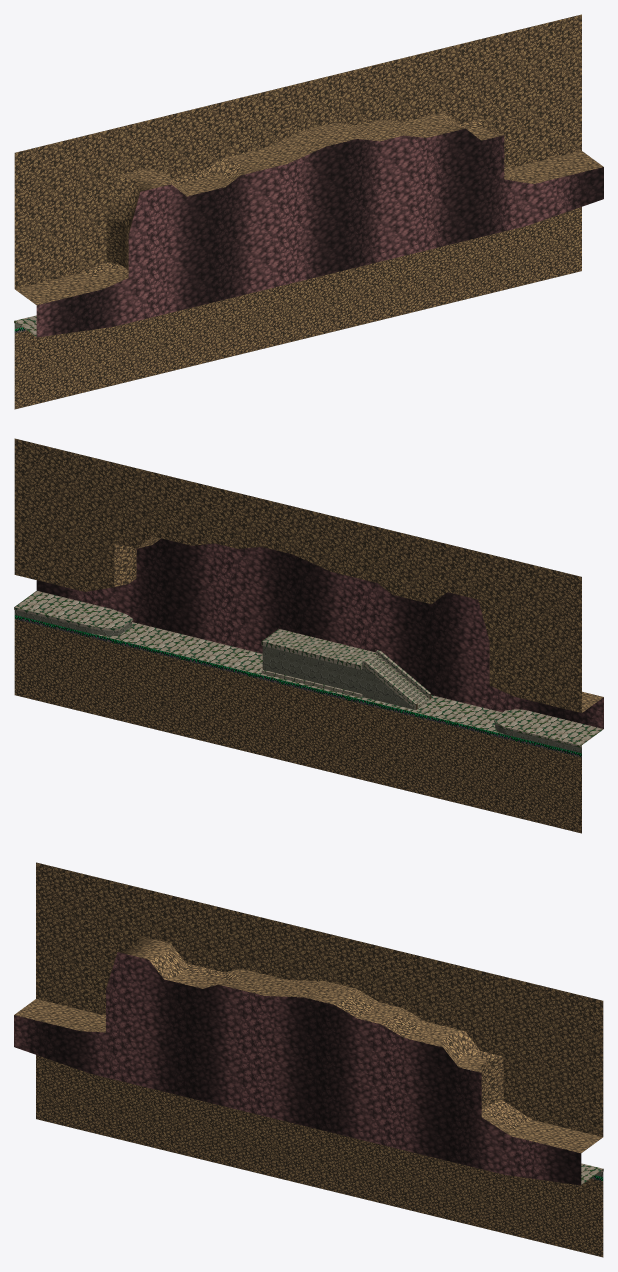
Rendered from Area2_Room4_OldBackup.fbx.
3 renders of one model, top to bottom at view 1: azimuth 30°, elevation 25°; view 2: azimuth 150°, elevation 25°; view 3: azimuth 330°, elevation 25°, orthographic.
Parts seen in each view (by area): view 1: pCube84; view 2: pCube84; view 3: pCube84.
Part boxes in pixels (x1,y1,x2,y2): pCube84: (14, 14, 603, 409); pCube84: (14, 438, 603, 833); pCube84: (14, 862, 603, 1257).
Size of the model in its own units: 74 by 32 by 5.14.
